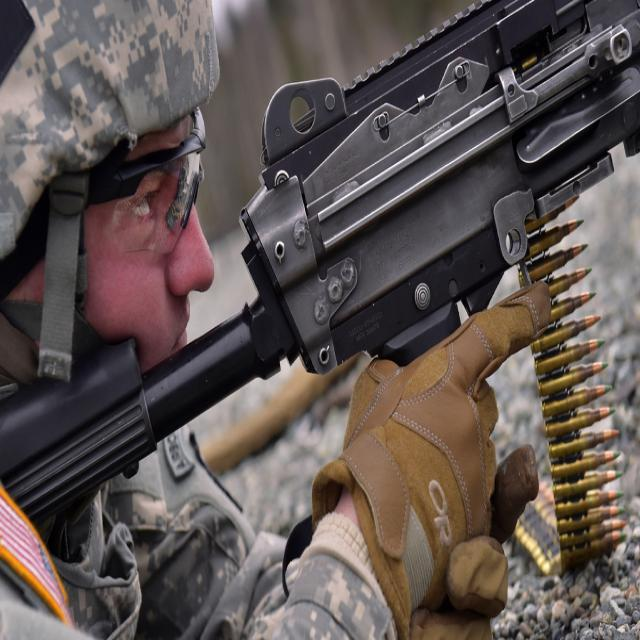weapon: (26, 0, 640, 533)
